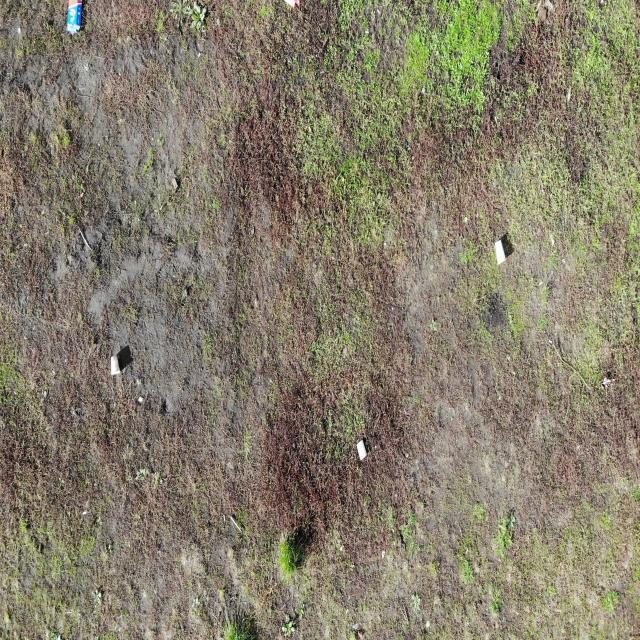rubbish: (494, 238, 508, 268), (280, 0, 306, 14), (355, 439, 368, 461), (110, 354, 122, 377)
